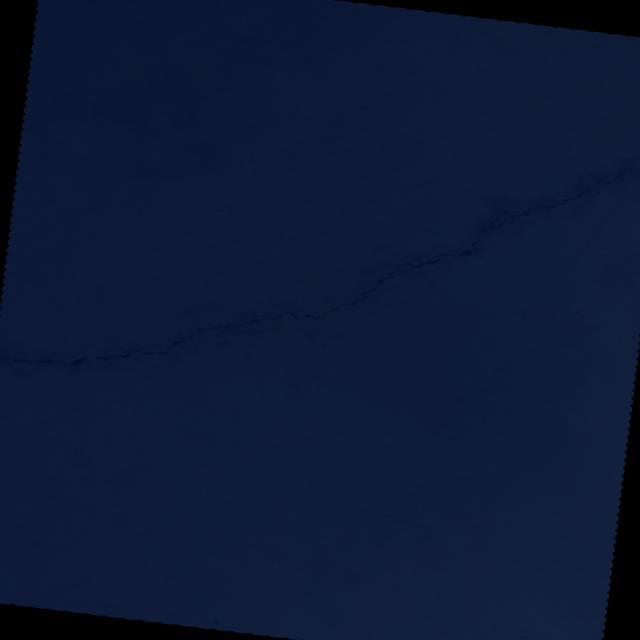crack: (0, 81, 640, 436)
